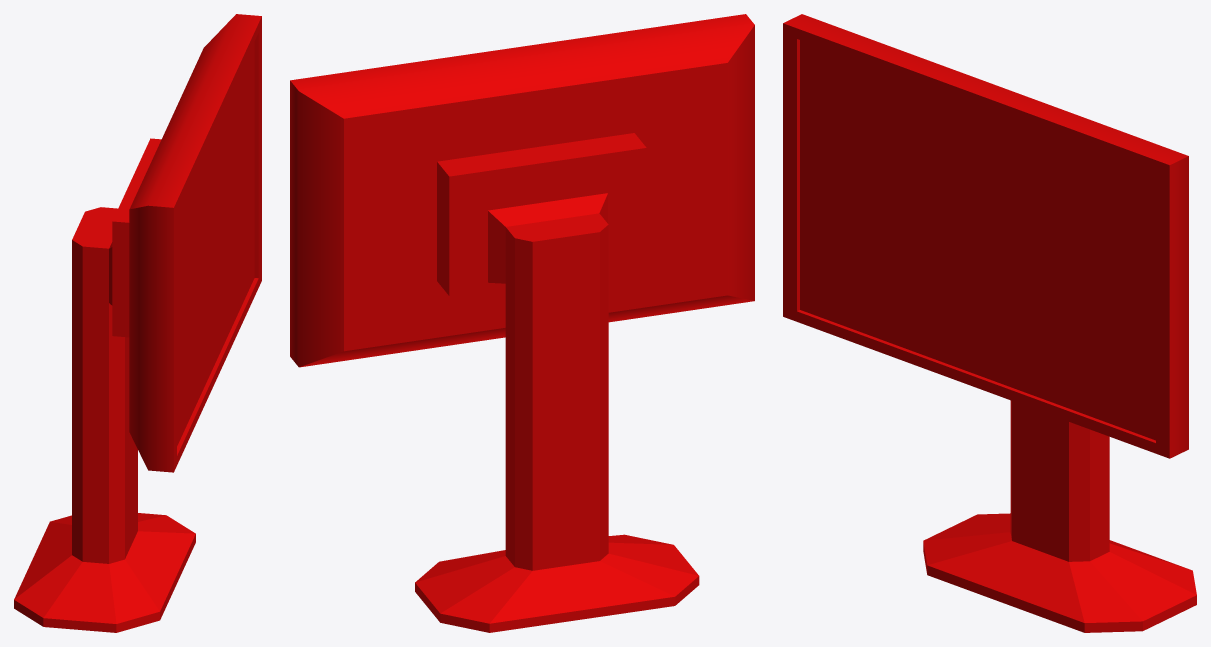
Rendered from monitor.fbx.
3 views of the same model, side by side, from view 1: azimuth 30°, elevation 25°; view 2: azimuth 150°, elevation 25°; view 3: azimuth 270°, elevation 25° (orthographic). The views are drawn at different scales.
Visible parts, largest first — view 1: monitor; view 2: monitor; view 3: monitor.
Boxes of the visible parts, <box> form: monitor: <box>14,14,261,632</box>; monitor: <box>290,14,754,632</box>; monitor: <box>783,14,1196,632</box>.
Bounding box in the file's own units: 0.8781 × 1.29 × 0.9202.
